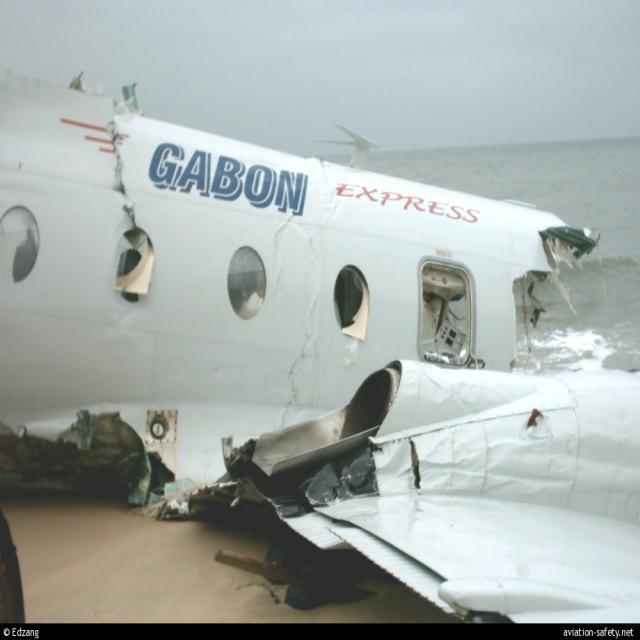crack: (272, 291, 332, 438), (104, 122, 141, 231), (272, 206, 300, 270), (314, 157, 340, 223), (409, 437, 424, 490)
